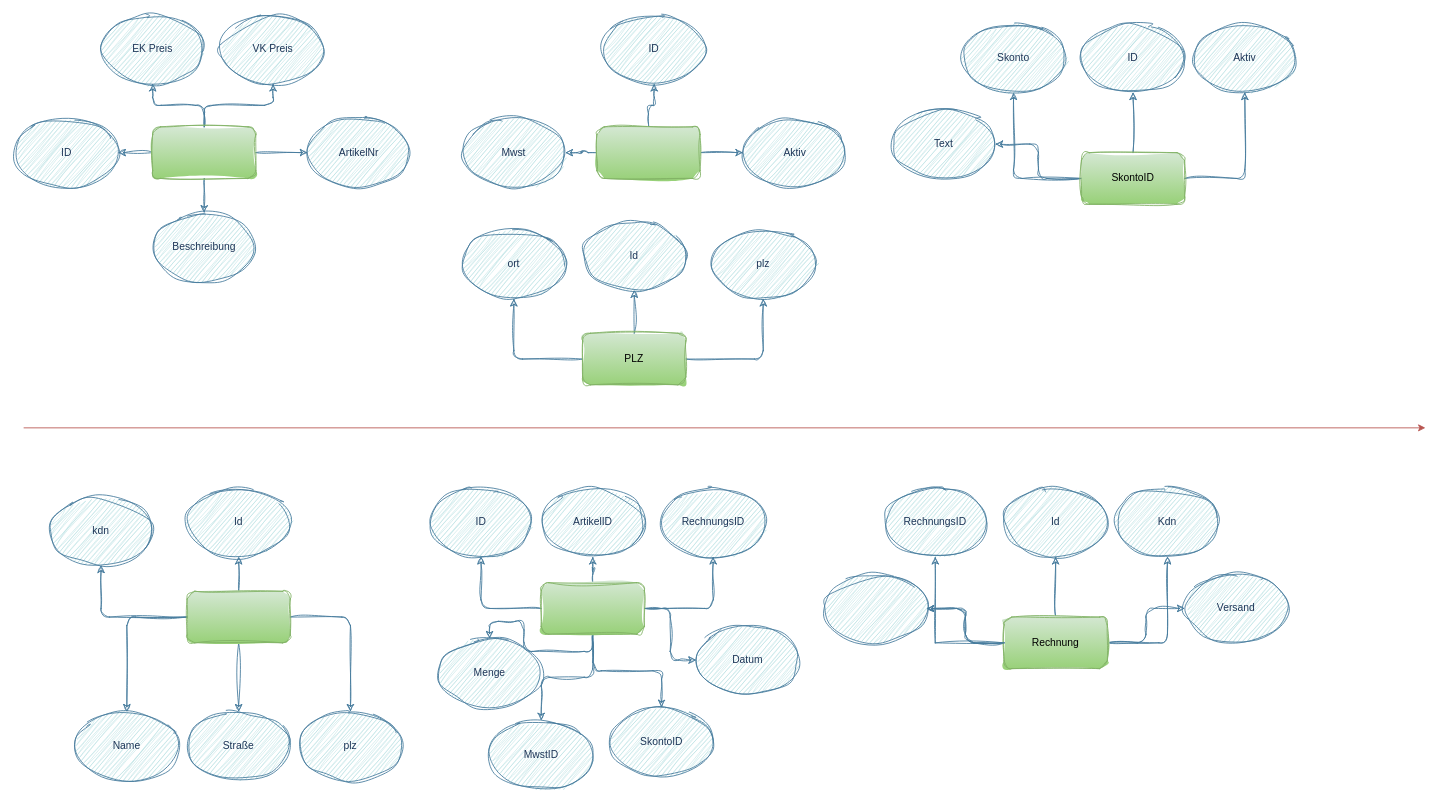
Some shapes in this 1447 by 804 pixel diagram are drawn without their labels. The box of each missing label's shape, as (x1, y1, x2, y2) in pixels:
Artikel: (152, 126, 256, 178)
gesamt: (823, 573, 927, 643)
Kunde: (186, 590, 290, 643)
MwSt Satz: (596, 126, 700, 178)
RechnungsPosition: (540, 582, 644, 634)
